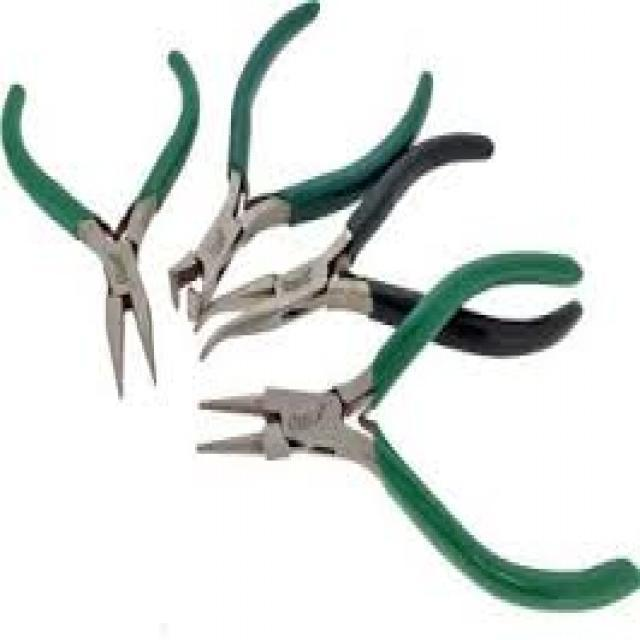pliers: (192, 244, 640, 624), (192, 126, 598, 378), (162, 0, 432, 329), (0, 58, 201, 401)
